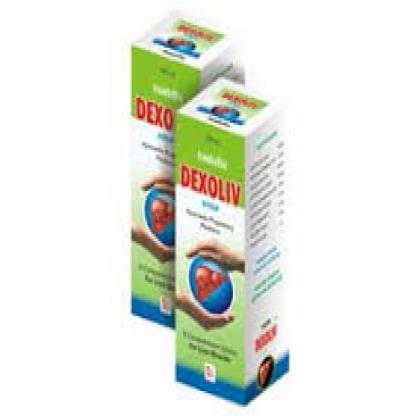CARDBOARD: (174, 72, 287, 404), (128, 12, 244, 328)
